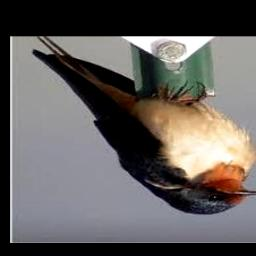Swallow: (31, 36, 256, 216)
